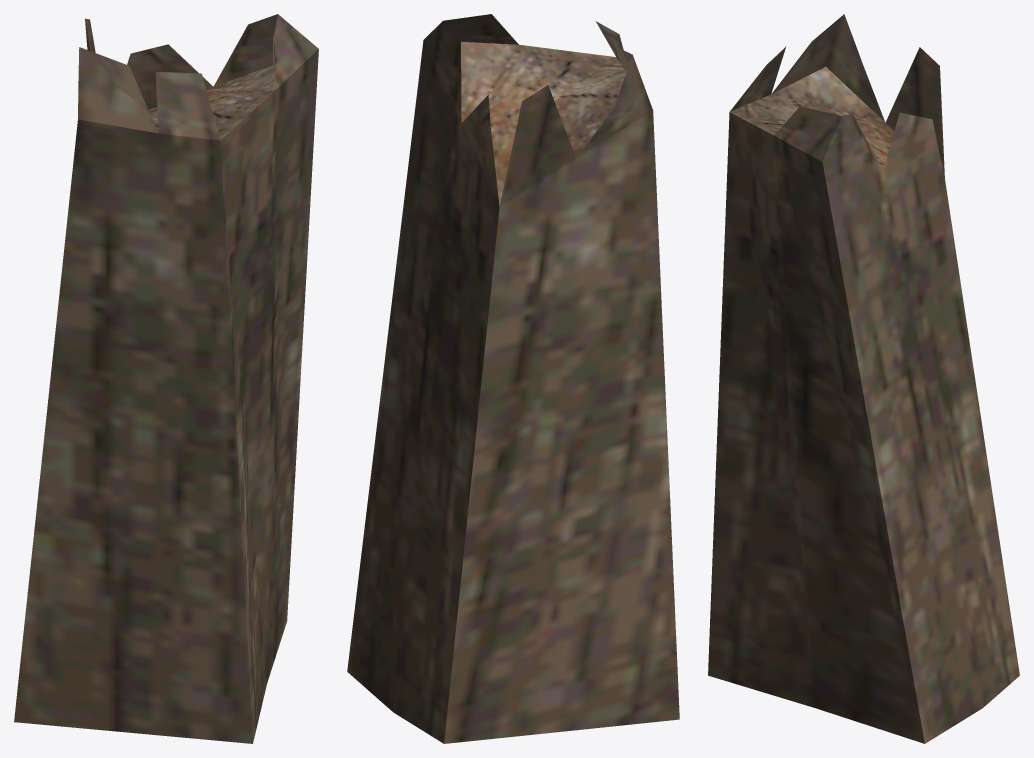
Rendered from wooden_fence_pole_broken_small.fbx.
3 renders of one model, left to right at view 1: azimuth 30°, elevation 25°; view 2: azimuth 150°, elevation 25°; view 3: azimuth 270°, elevation 25°, orthographic. The views are drawn at different scales.
Visible parts, largest first — view 1: wooden_fence_pole_broken_small; view 2: wooden_fence_pole_broken_small; view 3: wooden_fence_pole_broken_small.
Part boxes in pixels (<box>): wooden_fence_pole_broken_small: <box>14,14,318,743</box>; wooden_fence_pole_broken_small: <box>347,14,679,743</box>; wooden_fence_pole_broken_small: <box>708,14,1019,743</box>.
Bounding box in the file's own units: 21.93 × 45.35 × 20.8.
Materials: 1 (1 with a texture image).
